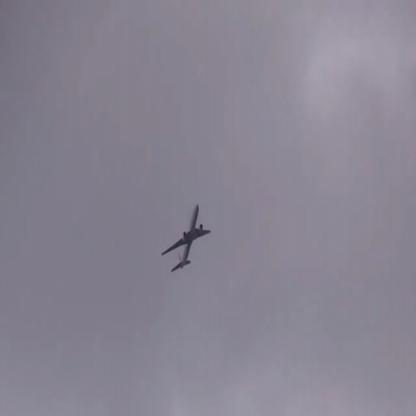CIV_Plane: (160, 204, 214, 273)
